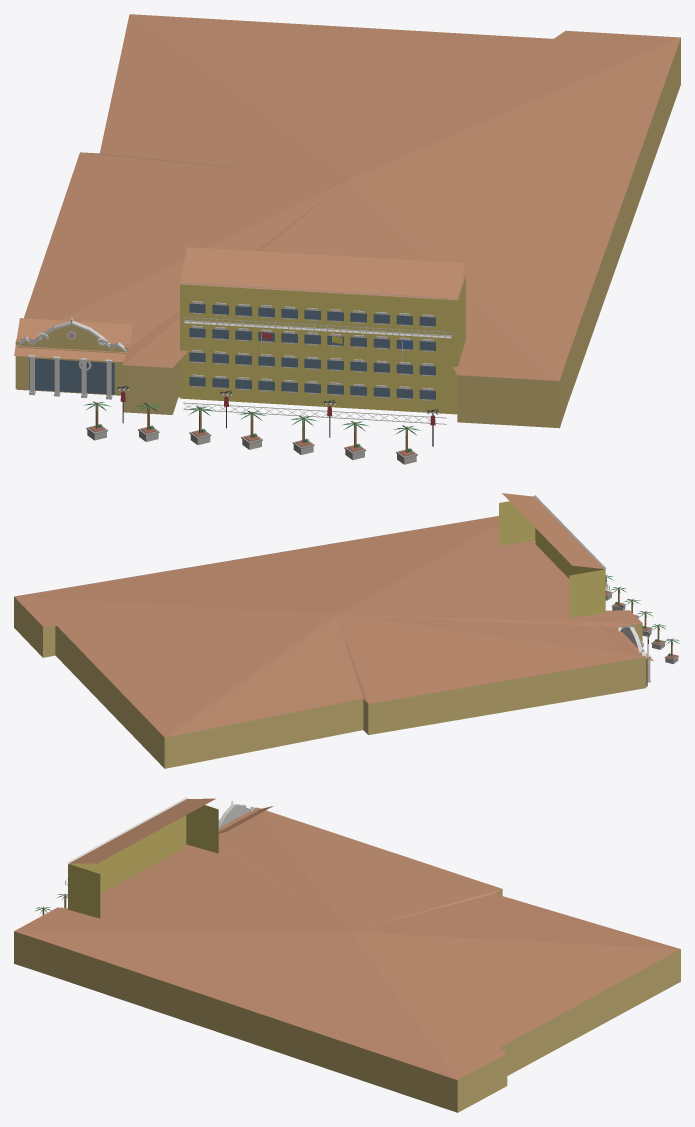
File: renmall.glb
The picture shows the model from 3 angles, top to bottom: view 1: azimuth 30°, elevation 25°; view 2: azimuth 150°, elevation 25°; view 3: azimuth 270°, elevation 25°; orthographic projection. The views are drawn at different scales.
Parts seen in each view (by area): view 1: renmall_lod0; view 2: renmall_lod0; view 3: renmall_lod0.
Boxes of the visible parts, x1,y1,x2,y2 form: renmall_lod0: (14, 14, 680, 464); renmall_lod0: (14, 493, 679, 768); renmall_lod0: (14, 797, 680, 1112).
Size of what is drawn, in the model's own units: 102 by 17.2 by 104.
